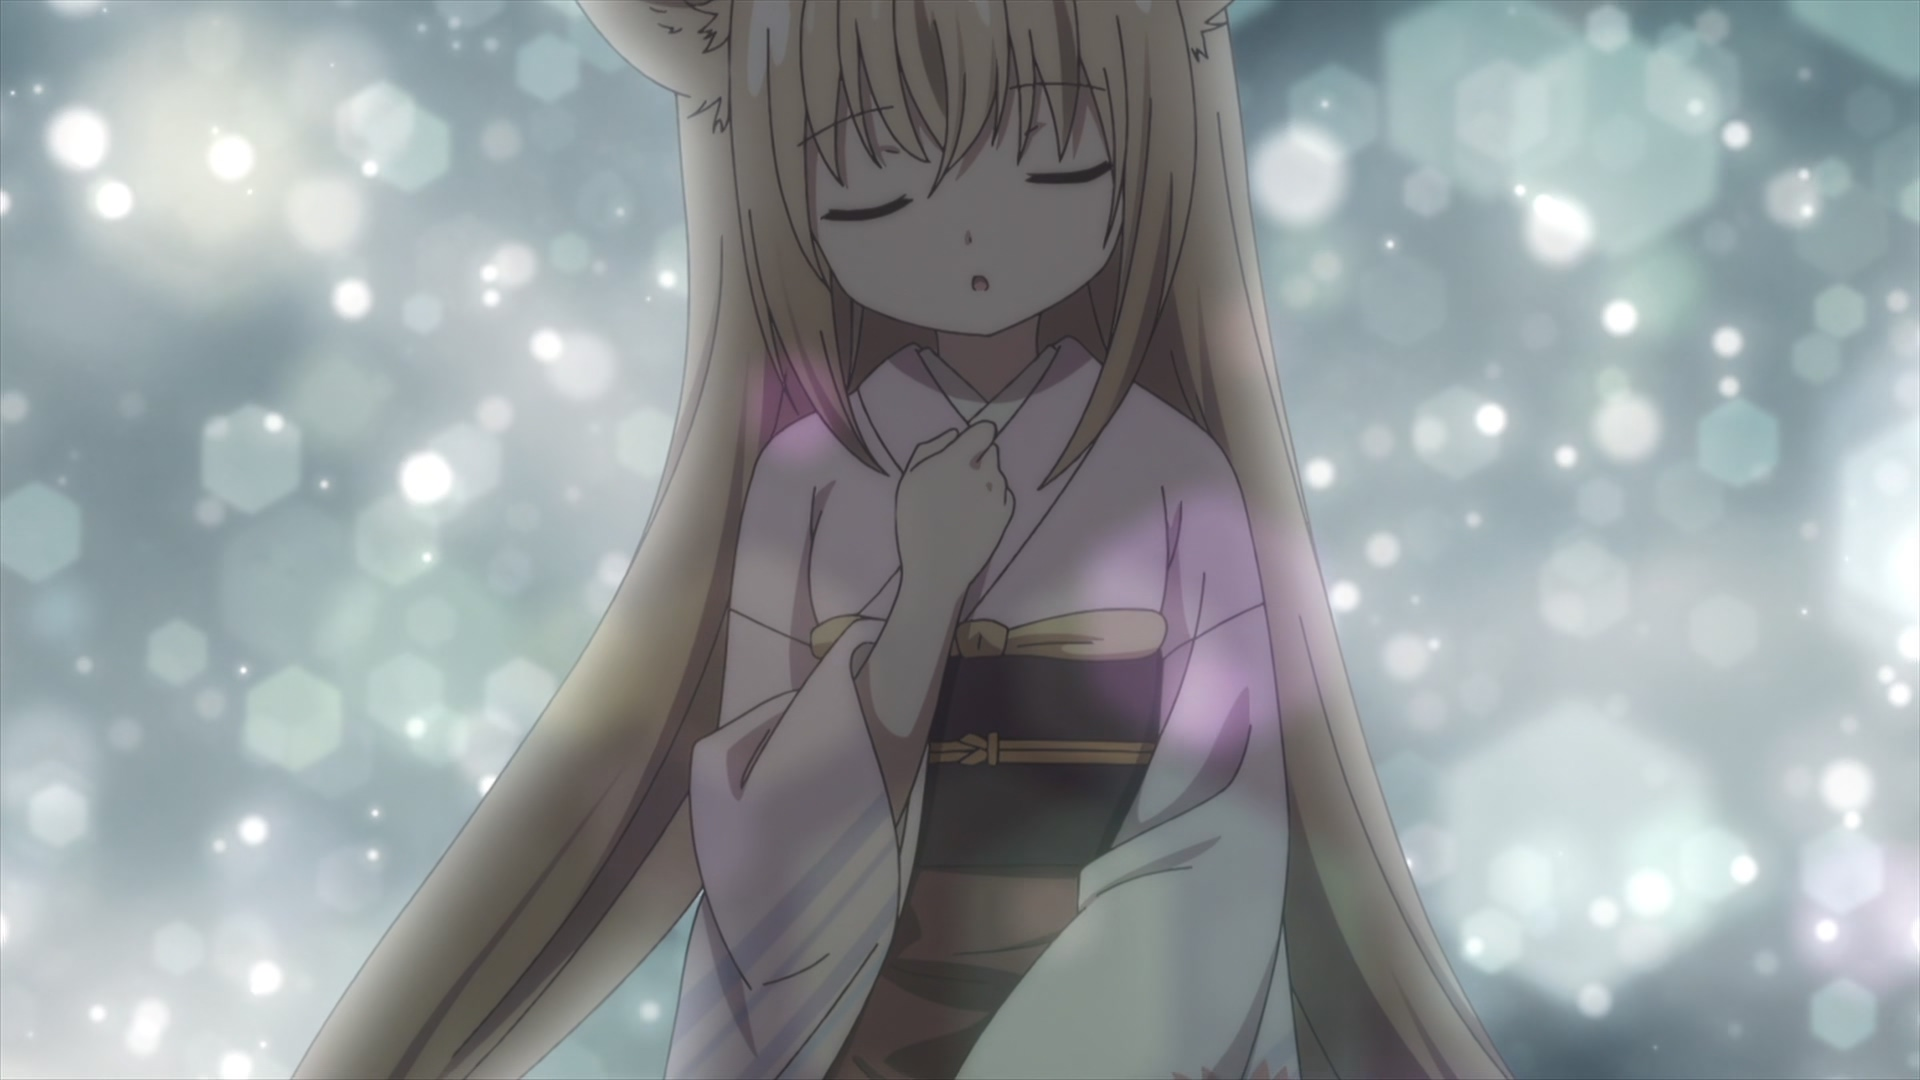柚: (290, 1, 1505, 1080)
